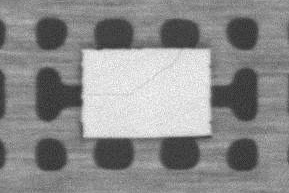DIE_CRACK: (83, 49, 181, 96)
